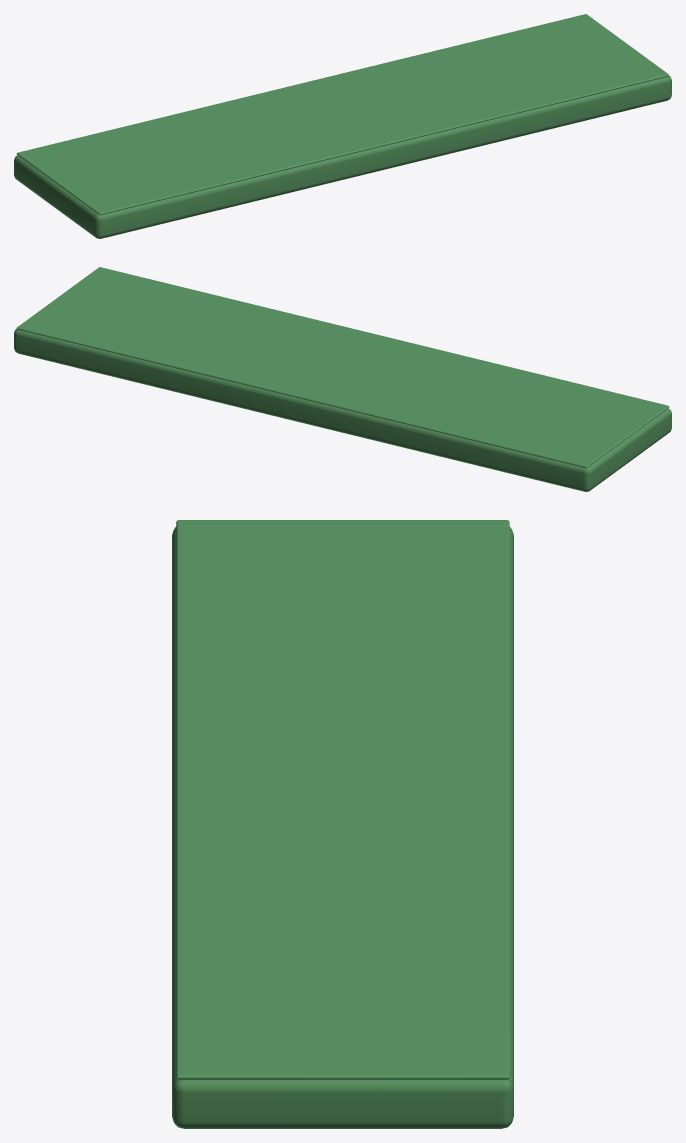
File: PP_Kit_TurfTile.fbx
3 renders of one model, top to bottom at view 1: azimuth 30°, elevation 25°; view 2: azimuth 150°, elevation 25°; view 3: azimuth 270°, elevation 25°, orthographic. The views are drawn at different scales.
Parts seen in each view (by area): view 1: KIT_TurfTile_310x80; view 2: KIT_TurfTile_310x80; view 3: KIT_TurfTile_310x80.
Part boxes in pixels (x1,y1,x2,y2): KIT_TurfTile_310x80: [14, 14, 671, 238]; KIT_TurfTile_310x80: [14, 267, 671, 491]; KIT_TurfTile_310x80: [172, 520, 513, 1128].
Bounding box in the file's own units: 310 × 13.8 × 79.5.
